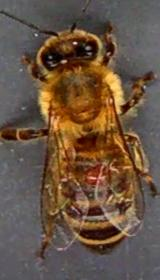varroa_mite: (79, 162, 111, 184)
